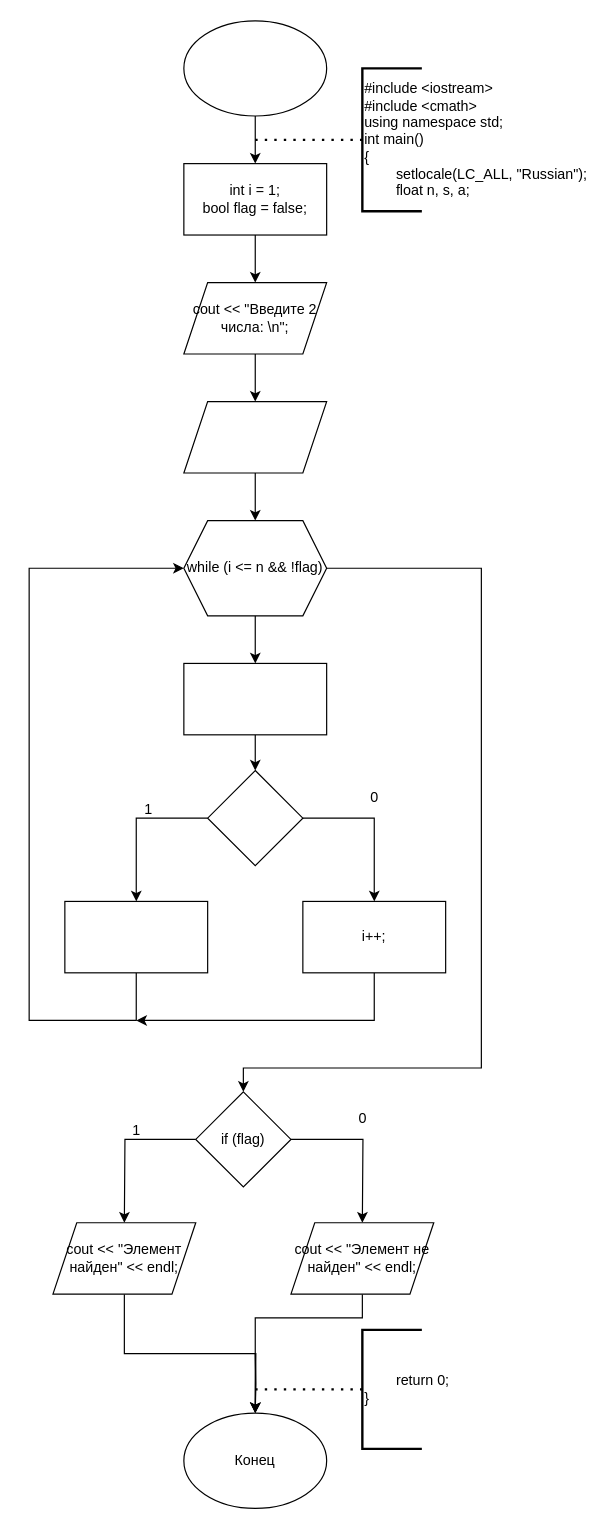
Image size: 608x1529. Some labels were removed from this diagram. The shapes that lost their labels are listed below. From the top down, each one's centre as x and y in pixels, then its label:
At point (255, 68): "Начало".
At point (255, 436): "cin >> n >> s;".
At point (255, 698): "a = sin(n + i / n);".
At point (254, 817): "if (a == s)".
At point (136, 936): "flag = true;".
